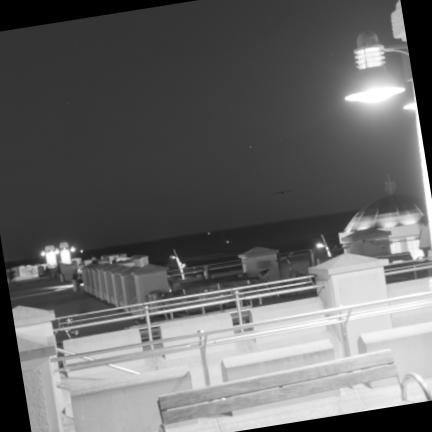Shahed: (273, 190, 291, 194)
